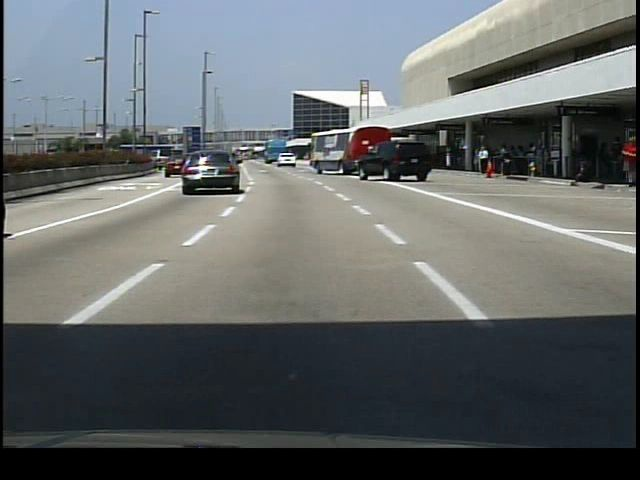person: (476, 143, 492, 179)
